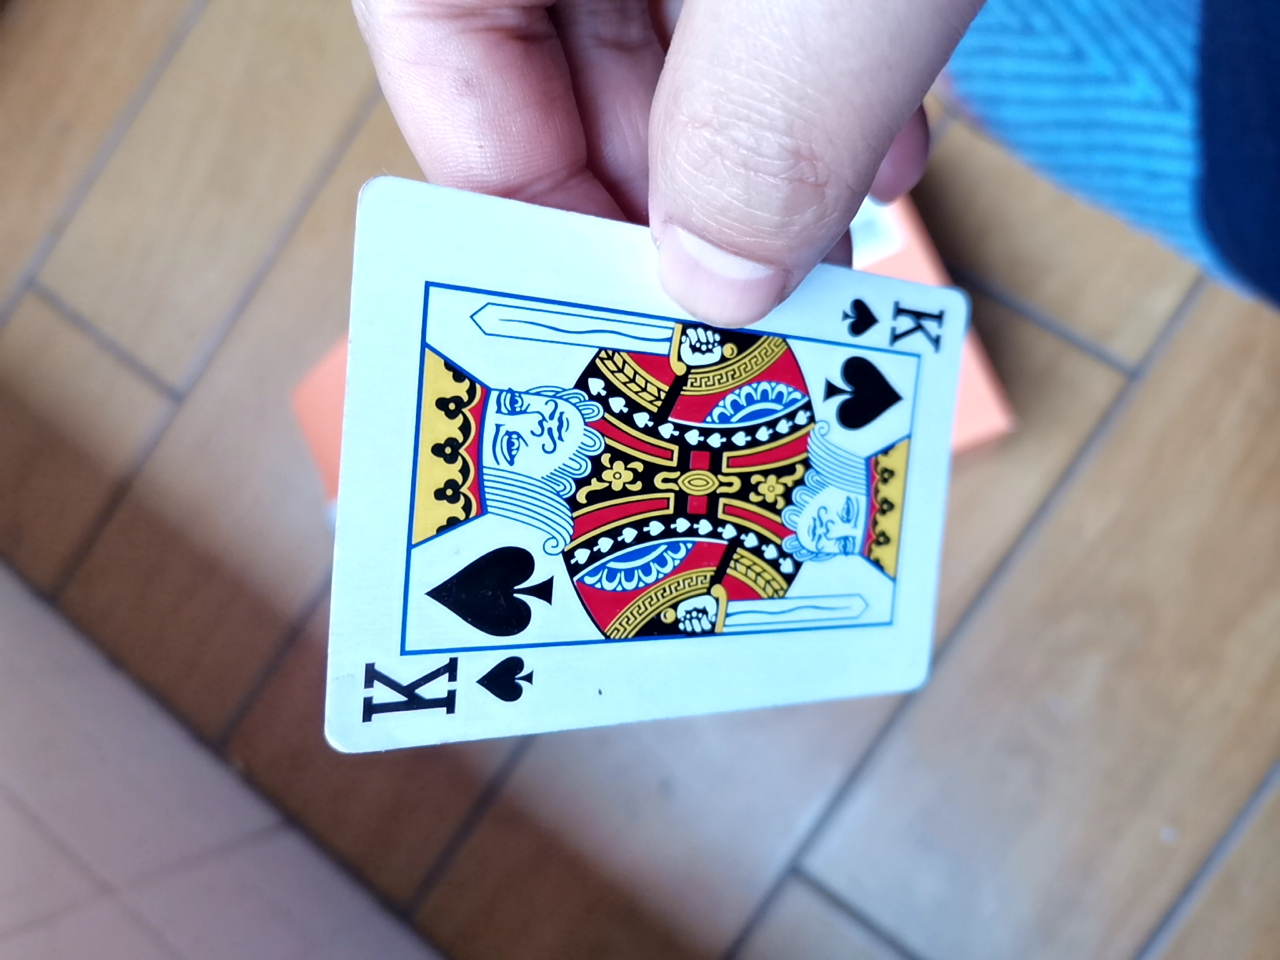ht k: (313, 176, 976, 782)
